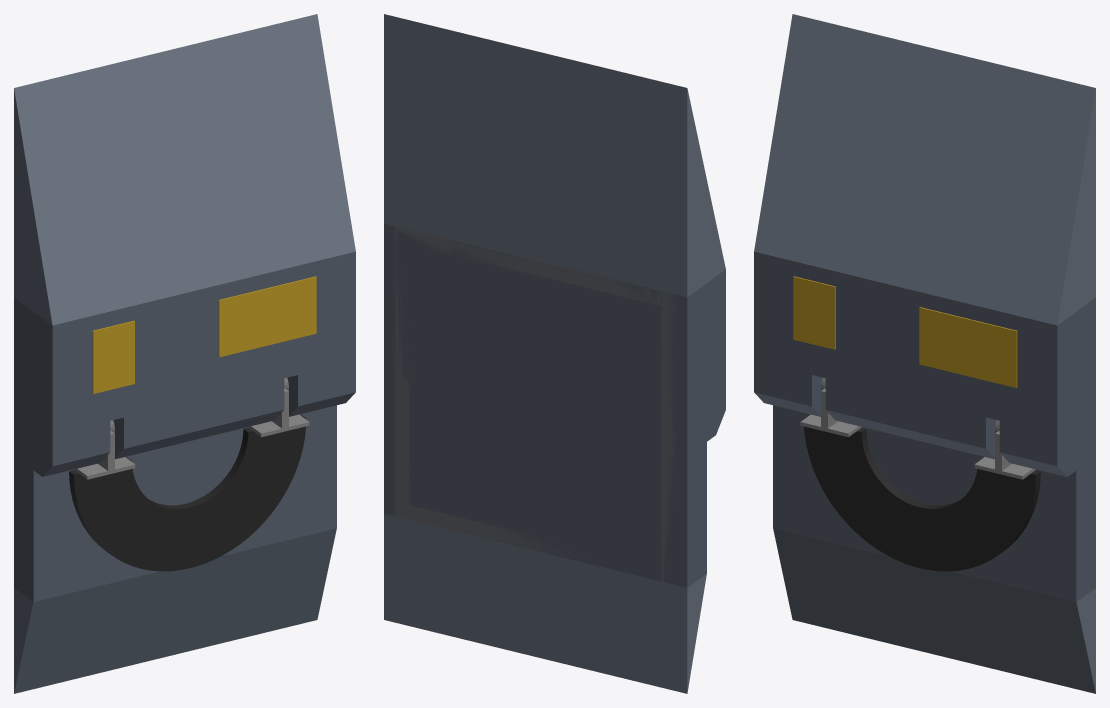
File: PARKFNB_V2S_Shell_closed_arch_down.obj
The picture shows the model from 3 angles, left to right: view 1: azimuth 30°, elevation 25°; view 2: azimuth 150°, elevation 25°; view 3: azimuth 330°, elevation 25°; orthographic projection.
Visible parts, largest first — view 1: shell_rear_ramp, shell_hump, shell_front_ramp, shell_tray, arch_rubber, service_hatch, shell_slit_rear, arm_cleat, swing_arm; view 2: shell_rear_ramp, shell_hump, shell_tray, shell_front_ramp, frame, shell_slit_floor; view 3: shell_rear_ramp, shell_hump, shell_front_ramp, shell_tray, arch_rubber, service_hatch, shell_slit_rear, arm_cleat, swing_arm.
Boxes of the visible parts, x1=… form: shell_rear_ramp: x1=14, y1=14, x2=355, y2=325; shell_hump: x1=14, y1=251, x2=355, y2=476; shell_front_ramp: x1=14, y1=528, x2=336, y2=693; shell_tray: x1=14, y1=405, x2=336, y2=602; arch_rubber: x1=69, y1=414, x2=306, y2=571; service_hatch: x1=92, y1=276, x2=316, y2=393; shell_slit_rear: x1=110, y1=265, x2=297, y2=420; arm_cleat: x1=74, y1=414, x2=309, y2=479; swing_arm: x1=98, y1=388, x2=288, y2=470; shell_rear_ramp: x1=384, y1=14, x2=725, y2=297; shell_hump: x1=384, y1=223, x2=725, y2=455; shell_tray: x1=384, y1=382, x2=706, y2=587; shell_front_ramp: x1=384, y1=514, x2=706, y2=693; frame: x1=395, y1=226, x2=675, y2=581; shell_slit_floor: x1=442, y1=239, x2=629, y2=441; shell_rear_ramp: x1=754, y1=14, x2=1095, y2=325; shell_hump: x1=754, y1=251, x2=1095, y2=476; shell_front_ramp: x1=773, y1=528, x2=1095, y2=693; shell_tray: x1=773, y1=405, x2=1095, y2=602; arch_rubber: x1=803, y1=414, x2=1040, y2=571; service_hatch: x1=793, y1=276, x2=1017, y2=387; shell_slit_rear: x1=812, y1=265, x2=999, y2=420; arm_cleat: x1=800, y1=414, x2=1035, y2=479; swing_arm: x1=821, y1=388, x2=1011, y2=470.
Bounding box in the file's own units: 530 × 1012 × 118.
